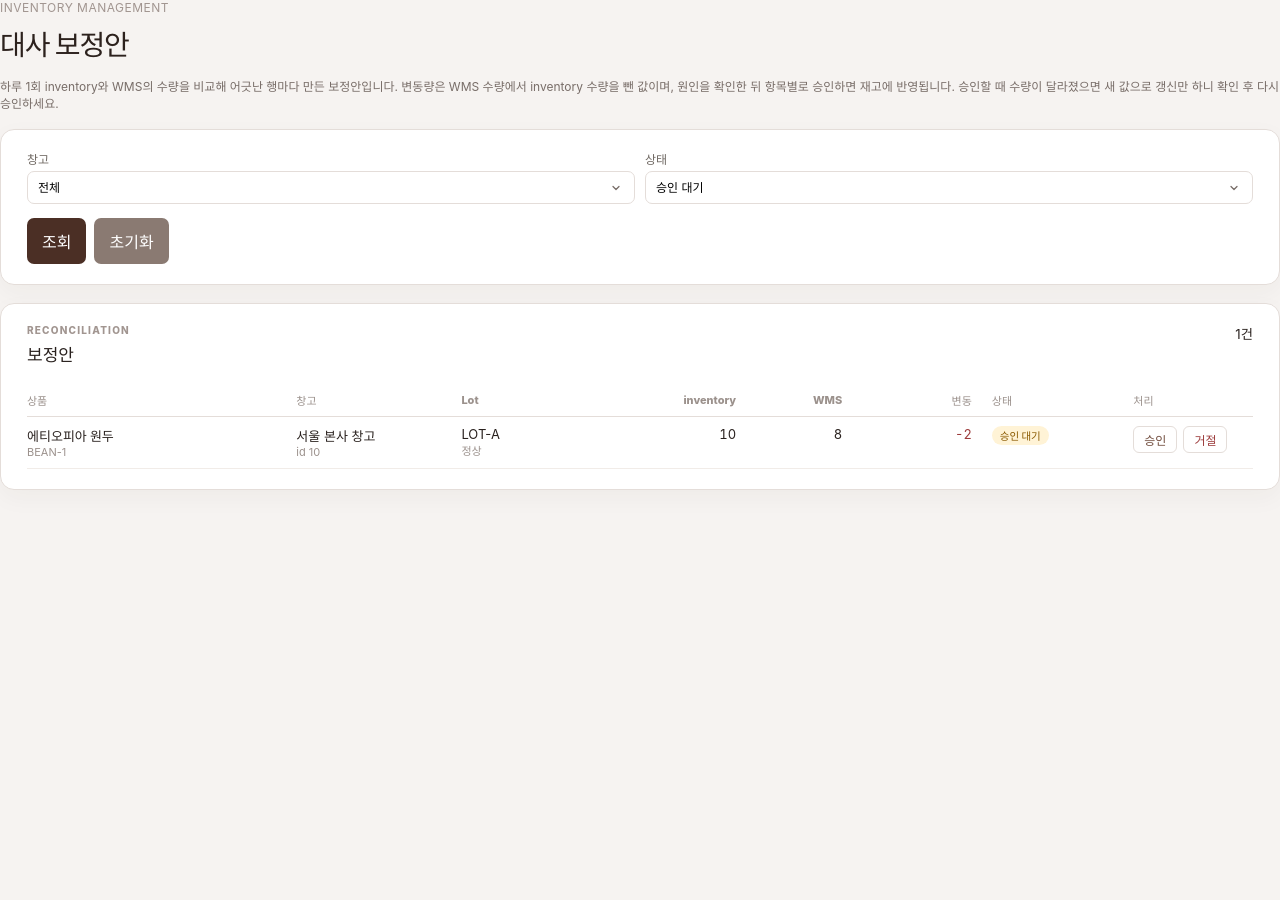
Test case: ReconciliationsPage › 승인·거절 › 승인 중 수량이 바뀌어 409가 오면 새 값을 확인하고 다시 승인하라고 화면에 남긴다(토스트가 아니다)
The width and height of the screenshot is (1280, 900).
Click the button with aria-label "에티오피아 원두 LOT-A 승인" at (1155, 440), box [1133,426,1177,453]
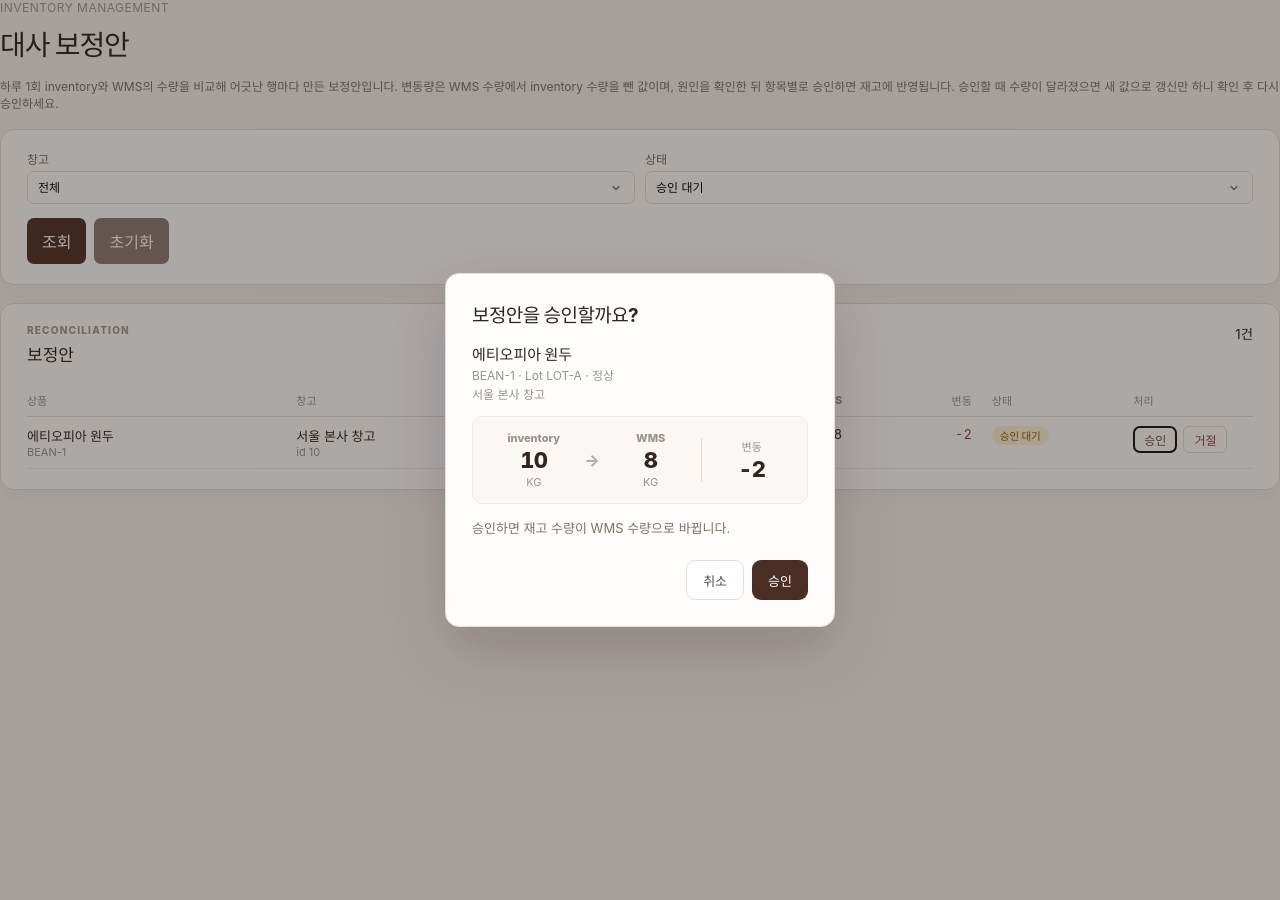
Click the button "승인" at (780, 580), box [752,560,808,600]
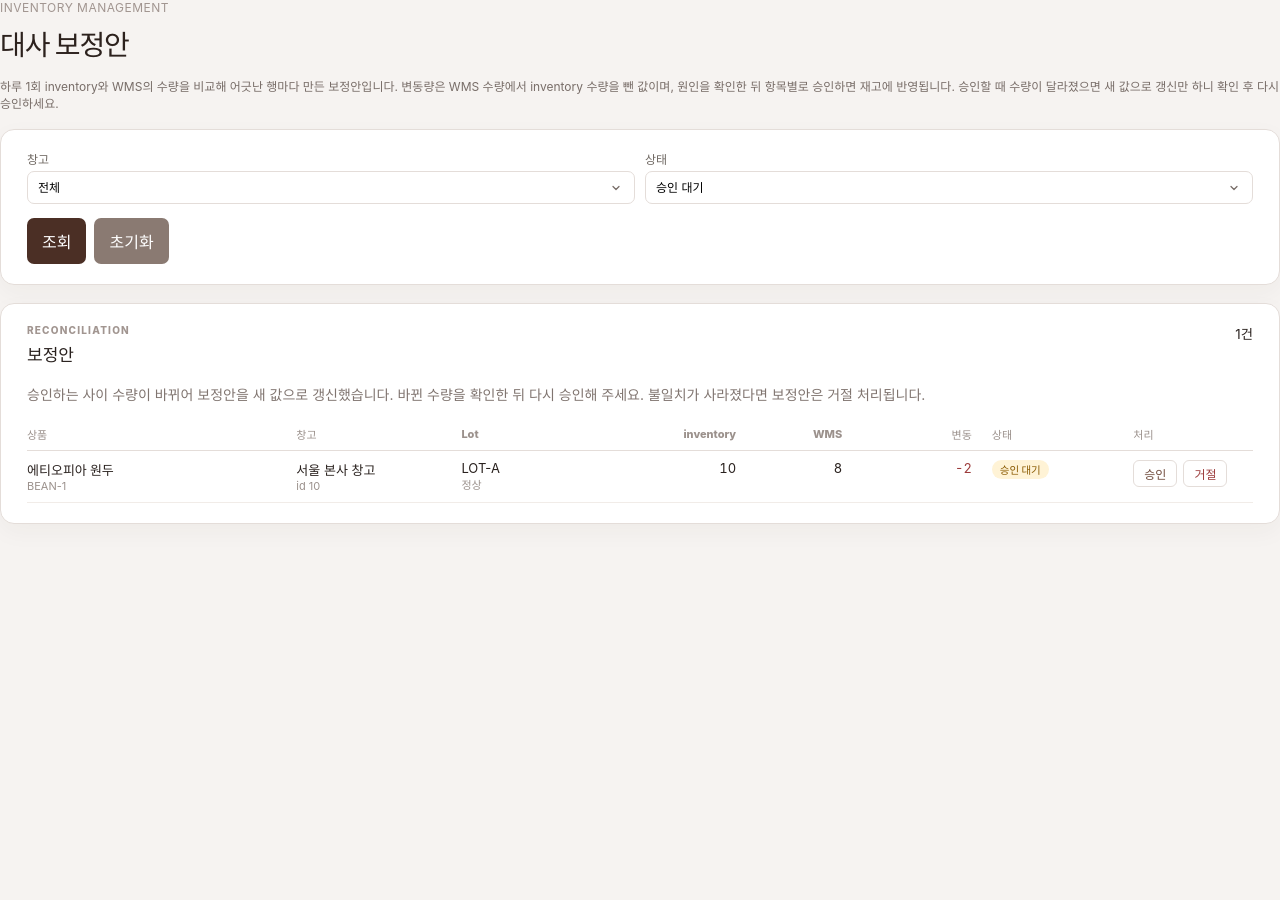
Expected: the message shows "다시 승인해 주세요", [27,386,925,403]
